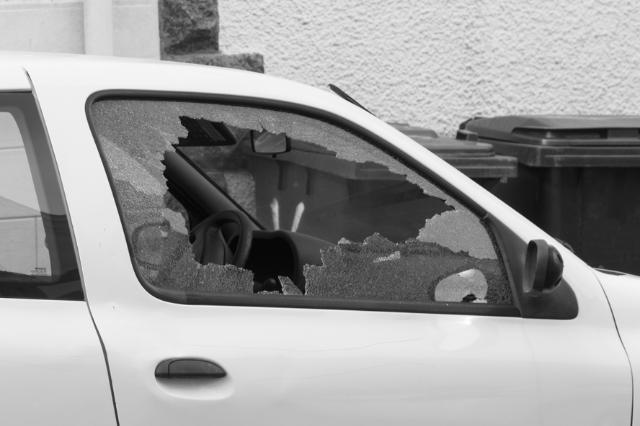Door: (65, 101, 462, 426)
